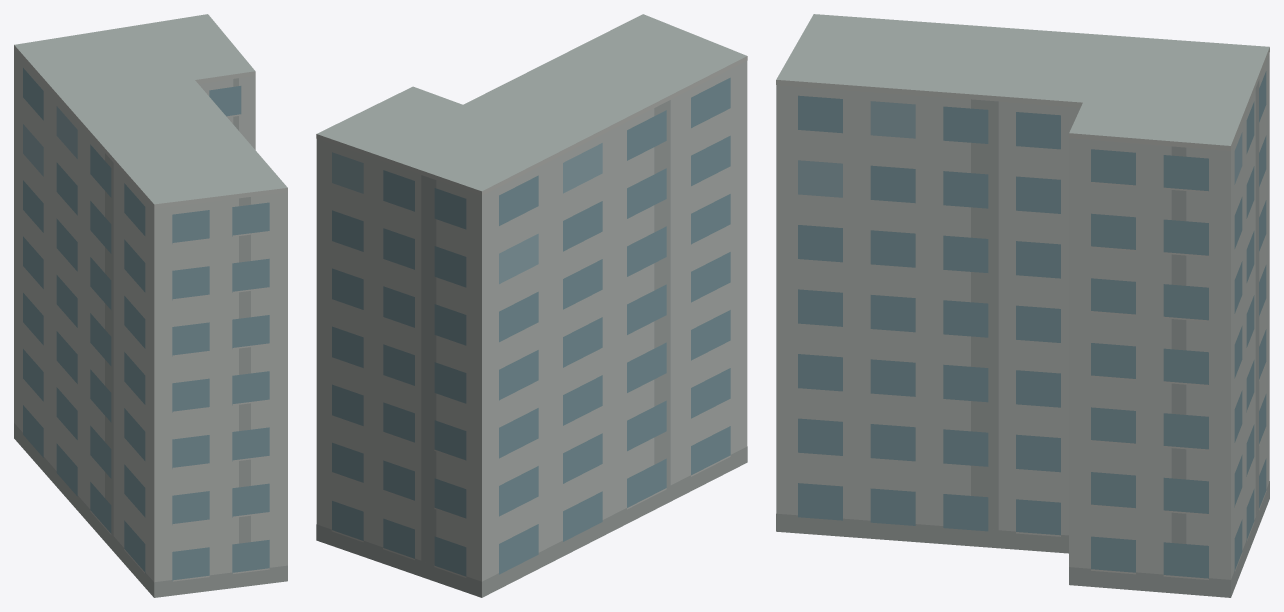
File: survey-upis-32810031.glb
3 views of the same model, side by side, from view 1: azimuth 30°, elevation 25°; view 2: azimuth 150°, elevation 25°; view 3: azimuth 270°, elevation 25° (orthographic). The views are drawn at different scales.
Visible parts, largest first — view 1: survey-upis-32810031.tmp; view 2: survey-upis-32810031.tmp; view 3: survey-upis-32810031.tmp.
Boxes of the visible parts, x1,y1,x2,y2 form: survey-upis-32810031.tmp: (14, 14, 287, 597); survey-upis-32810031.tmp: (316, 14, 747, 597); survey-upis-32810031.tmp: (776, 14, 1269, 597).
Size of the model in its own units: 13.38 by 21.35 by 21.15.
